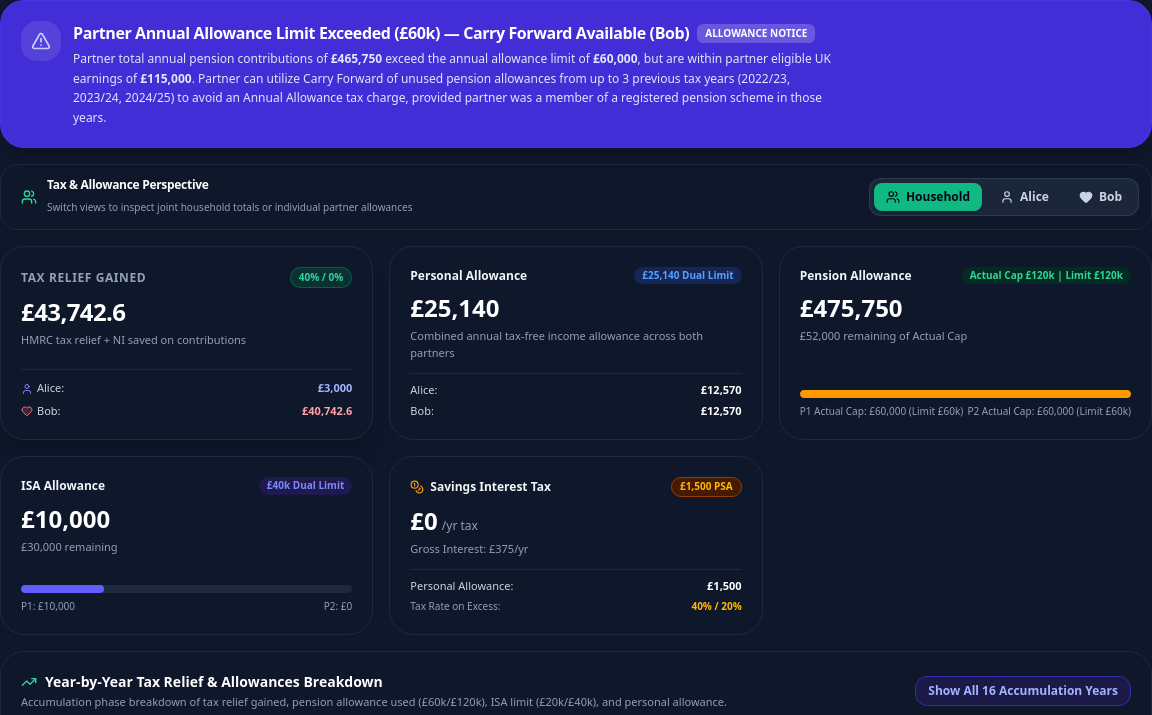
Test case: TaxOptimizerCard › supports couple planning mode with interactive view switching between Household, Primary, and Partner
The width and height of the screenshot is (1152, 715).
Expected: the text "Tax & Allowance Perspective" is shown, [47,176,209,193]
Expected: the button "Household" is shown, [874,183,982,211]
Note: Click to Alice (Primary) view
Click the button "Alice".
click(1024, 197)  # box [988,183,1061,211]
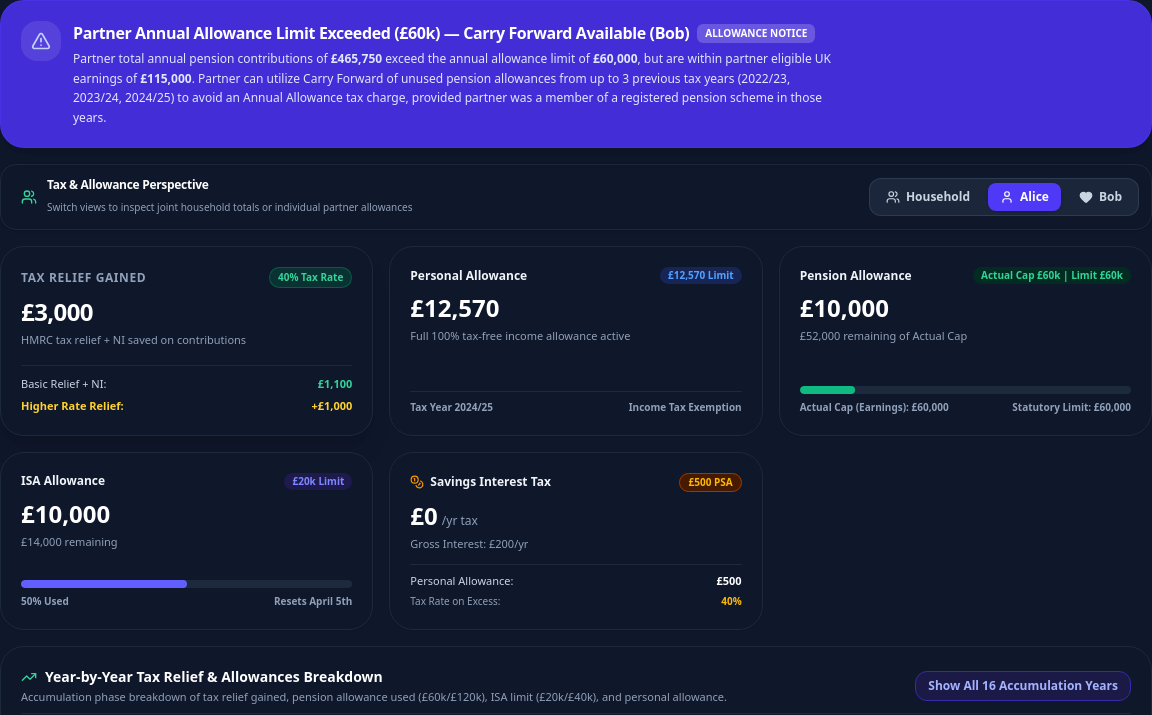
Expected: the text "£12,570 Limit" is shown, [660,267,742,284]
Note: Click to Bob (Partner) view
Click the button "Bob".
click(1100, 197)  # box [1067,183,1134,211]
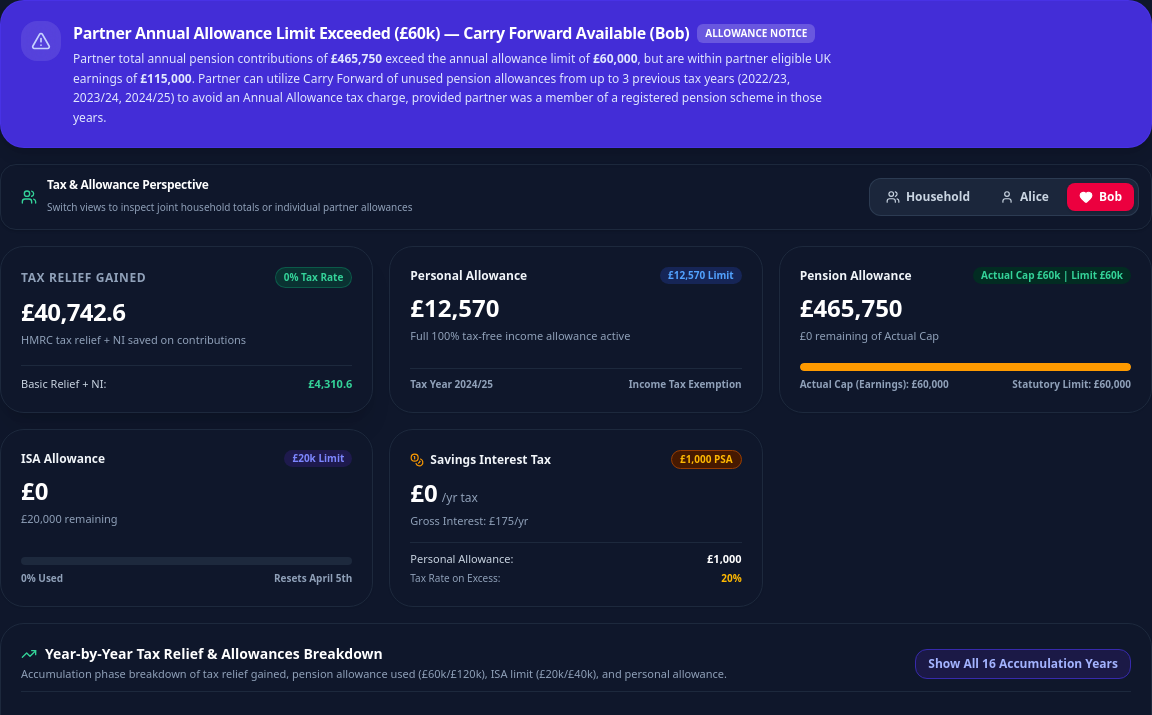
Note: Click back to Household view
Click the button "Household".
click(928, 197)  # box [874,183,982,211]
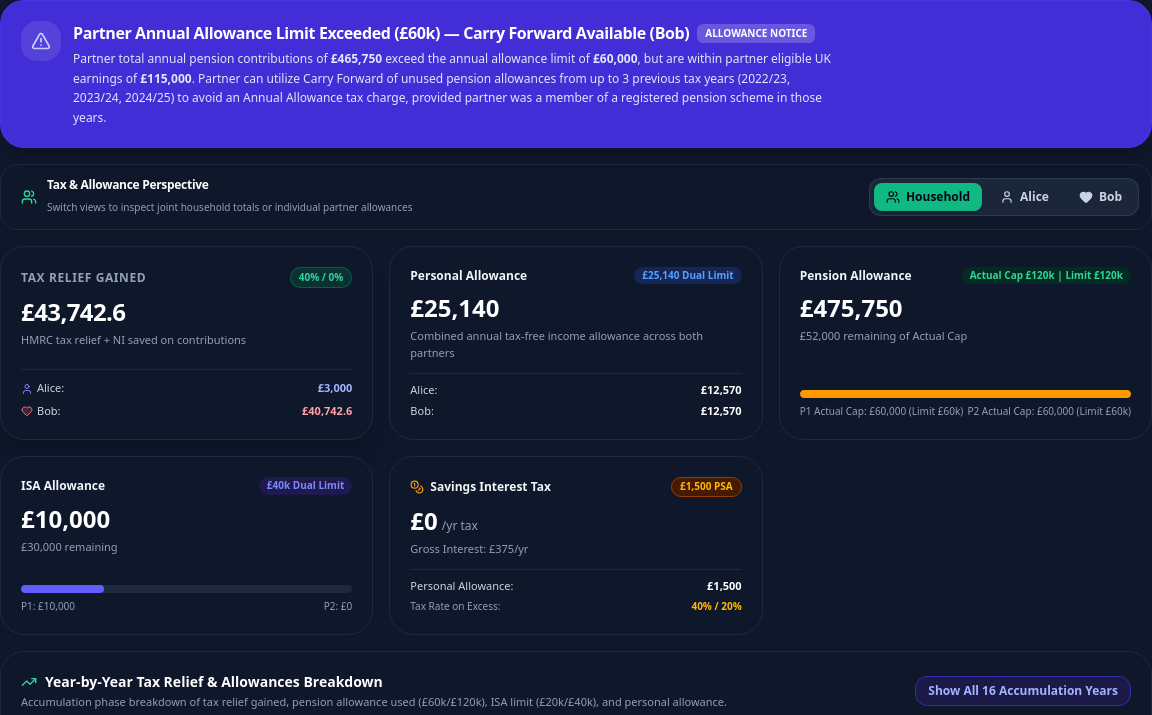
Expected: the text "£25,140 Dual Limit" is shown, [634,267,742,284]
